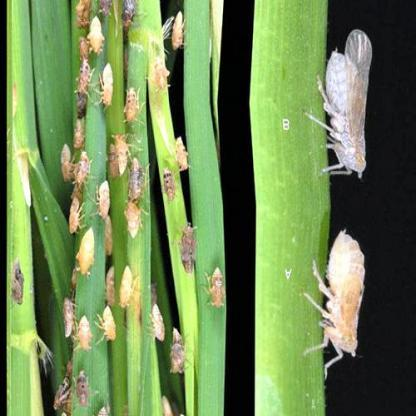brown-planthopper: (316, 28, 368, 179), (318, 222, 366, 360), (75, 225, 98, 277), (123, 199, 146, 241), (179, 223, 197, 274), (206, 265, 224, 312), (170, 326, 186, 375), (116, 262, 133, 308), (100, 304, 119, 341), (100, 64, 115, 110), (128, 158, 144, 201), (172, 132, 190, 170), (124, 84, 141, 124), (96, 178, 112, 220), (75, 312, 92, 351), (152, 54, 168, 95), (170, 9, 186, 50), (60, 142, 74, 186), (113, 131, 128, 172), (61, 296, 76, 336), (76, 369, 92, 406), (150, 300, 164, 342), (88, 14, 102, 53), (76, 54, 90, 93), (162, 166, 176, 204), (67, 198, 78, 232)
